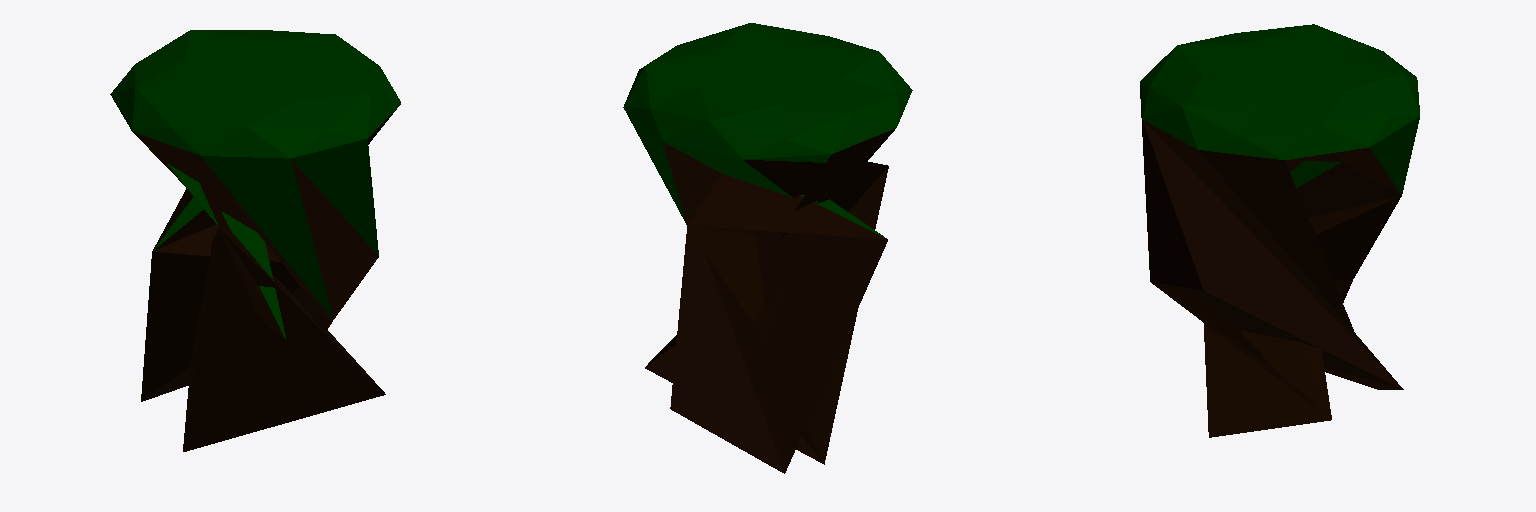
File: floatingisland_4.obj
3 renders of one model, left to right at view 1: azimuth 30°, elevation 25°; view 2: azimuth 150°, elevation 25°; view 3: azimuth 270°, elevation 25°, orthographic.
Visible parts, largest first — view 1: Icosphere; view 2: Icosphere; view 3: Icosphere.
Part boxes in pixels (bbox=[...]): Icosphere: bbox=[110, 30, 400, 451]; Icosphere: bbox=[623, 23, 912, 473]; Icosphere: bbox=[1140, 24, 1419, 437].
Bounding box in the file's own units: 2.6 × 3.67 × 2.5.